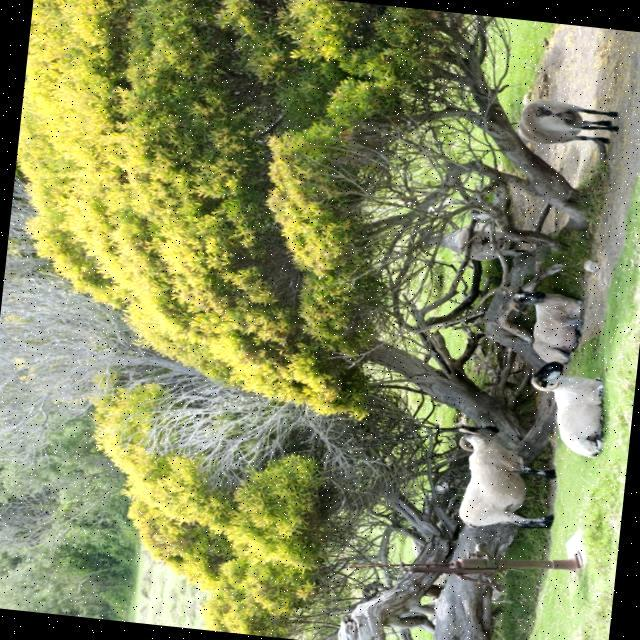sheep: (457, 425, 552, 527), (530, 360, 600, 455), (509, 287, 581, 362), (515, 98, 616, 143), (428, 226, 513, 260)
